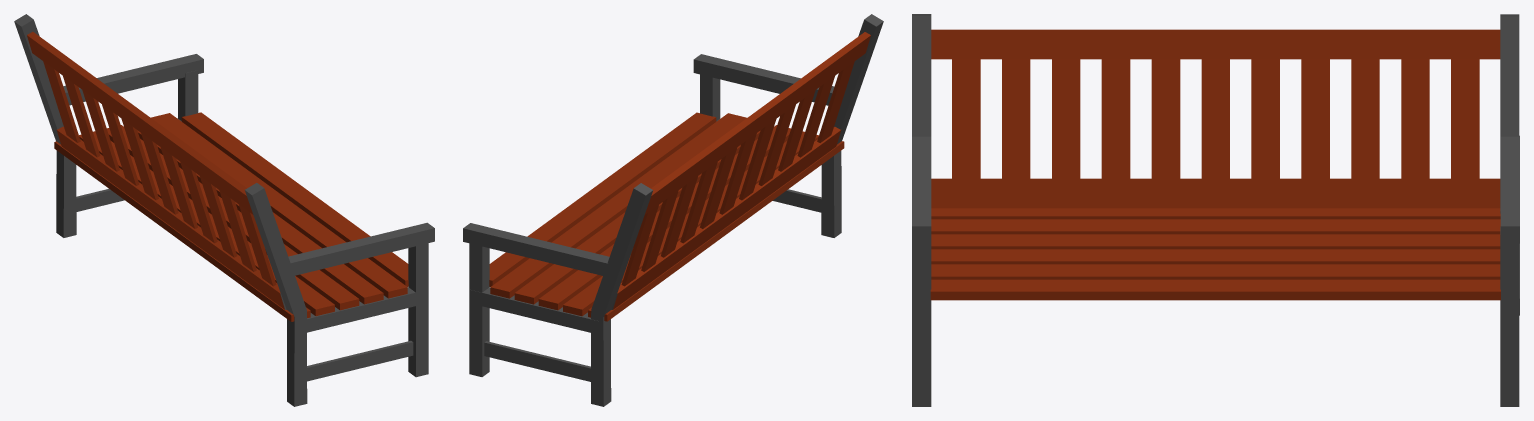
Rendered from bench.fbx.
The picture shows the model from 3 angles, left to right: view 1: azimuth 30°, elevation 25°; view 2: azimuth 150°, elevation 25°; view 3: azimuth 270°, elevation 25°; orthographic projection. The views are drawn at different scales.
Visible parts, largest first — view 1: Cube.013; view 2: Cube.013; view 3: Cube.013.
Part boxes in pixels (x1,y1,x2,y2): Cube.013: (14,14,434,406); Cube.013: (463,14,883,406); Cube.013: (912,14,1519,406).
Bounding box in the file's own units: 1.42 × 1.67 × 3.2.
